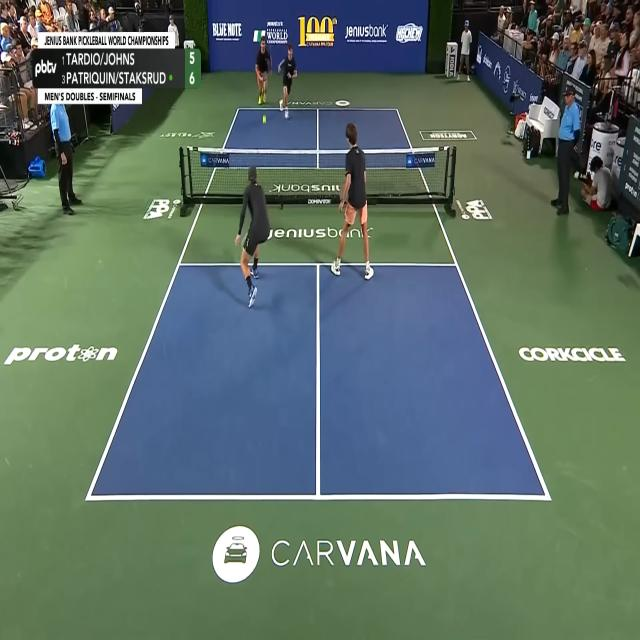ball: (262, 114, 267, 124)
